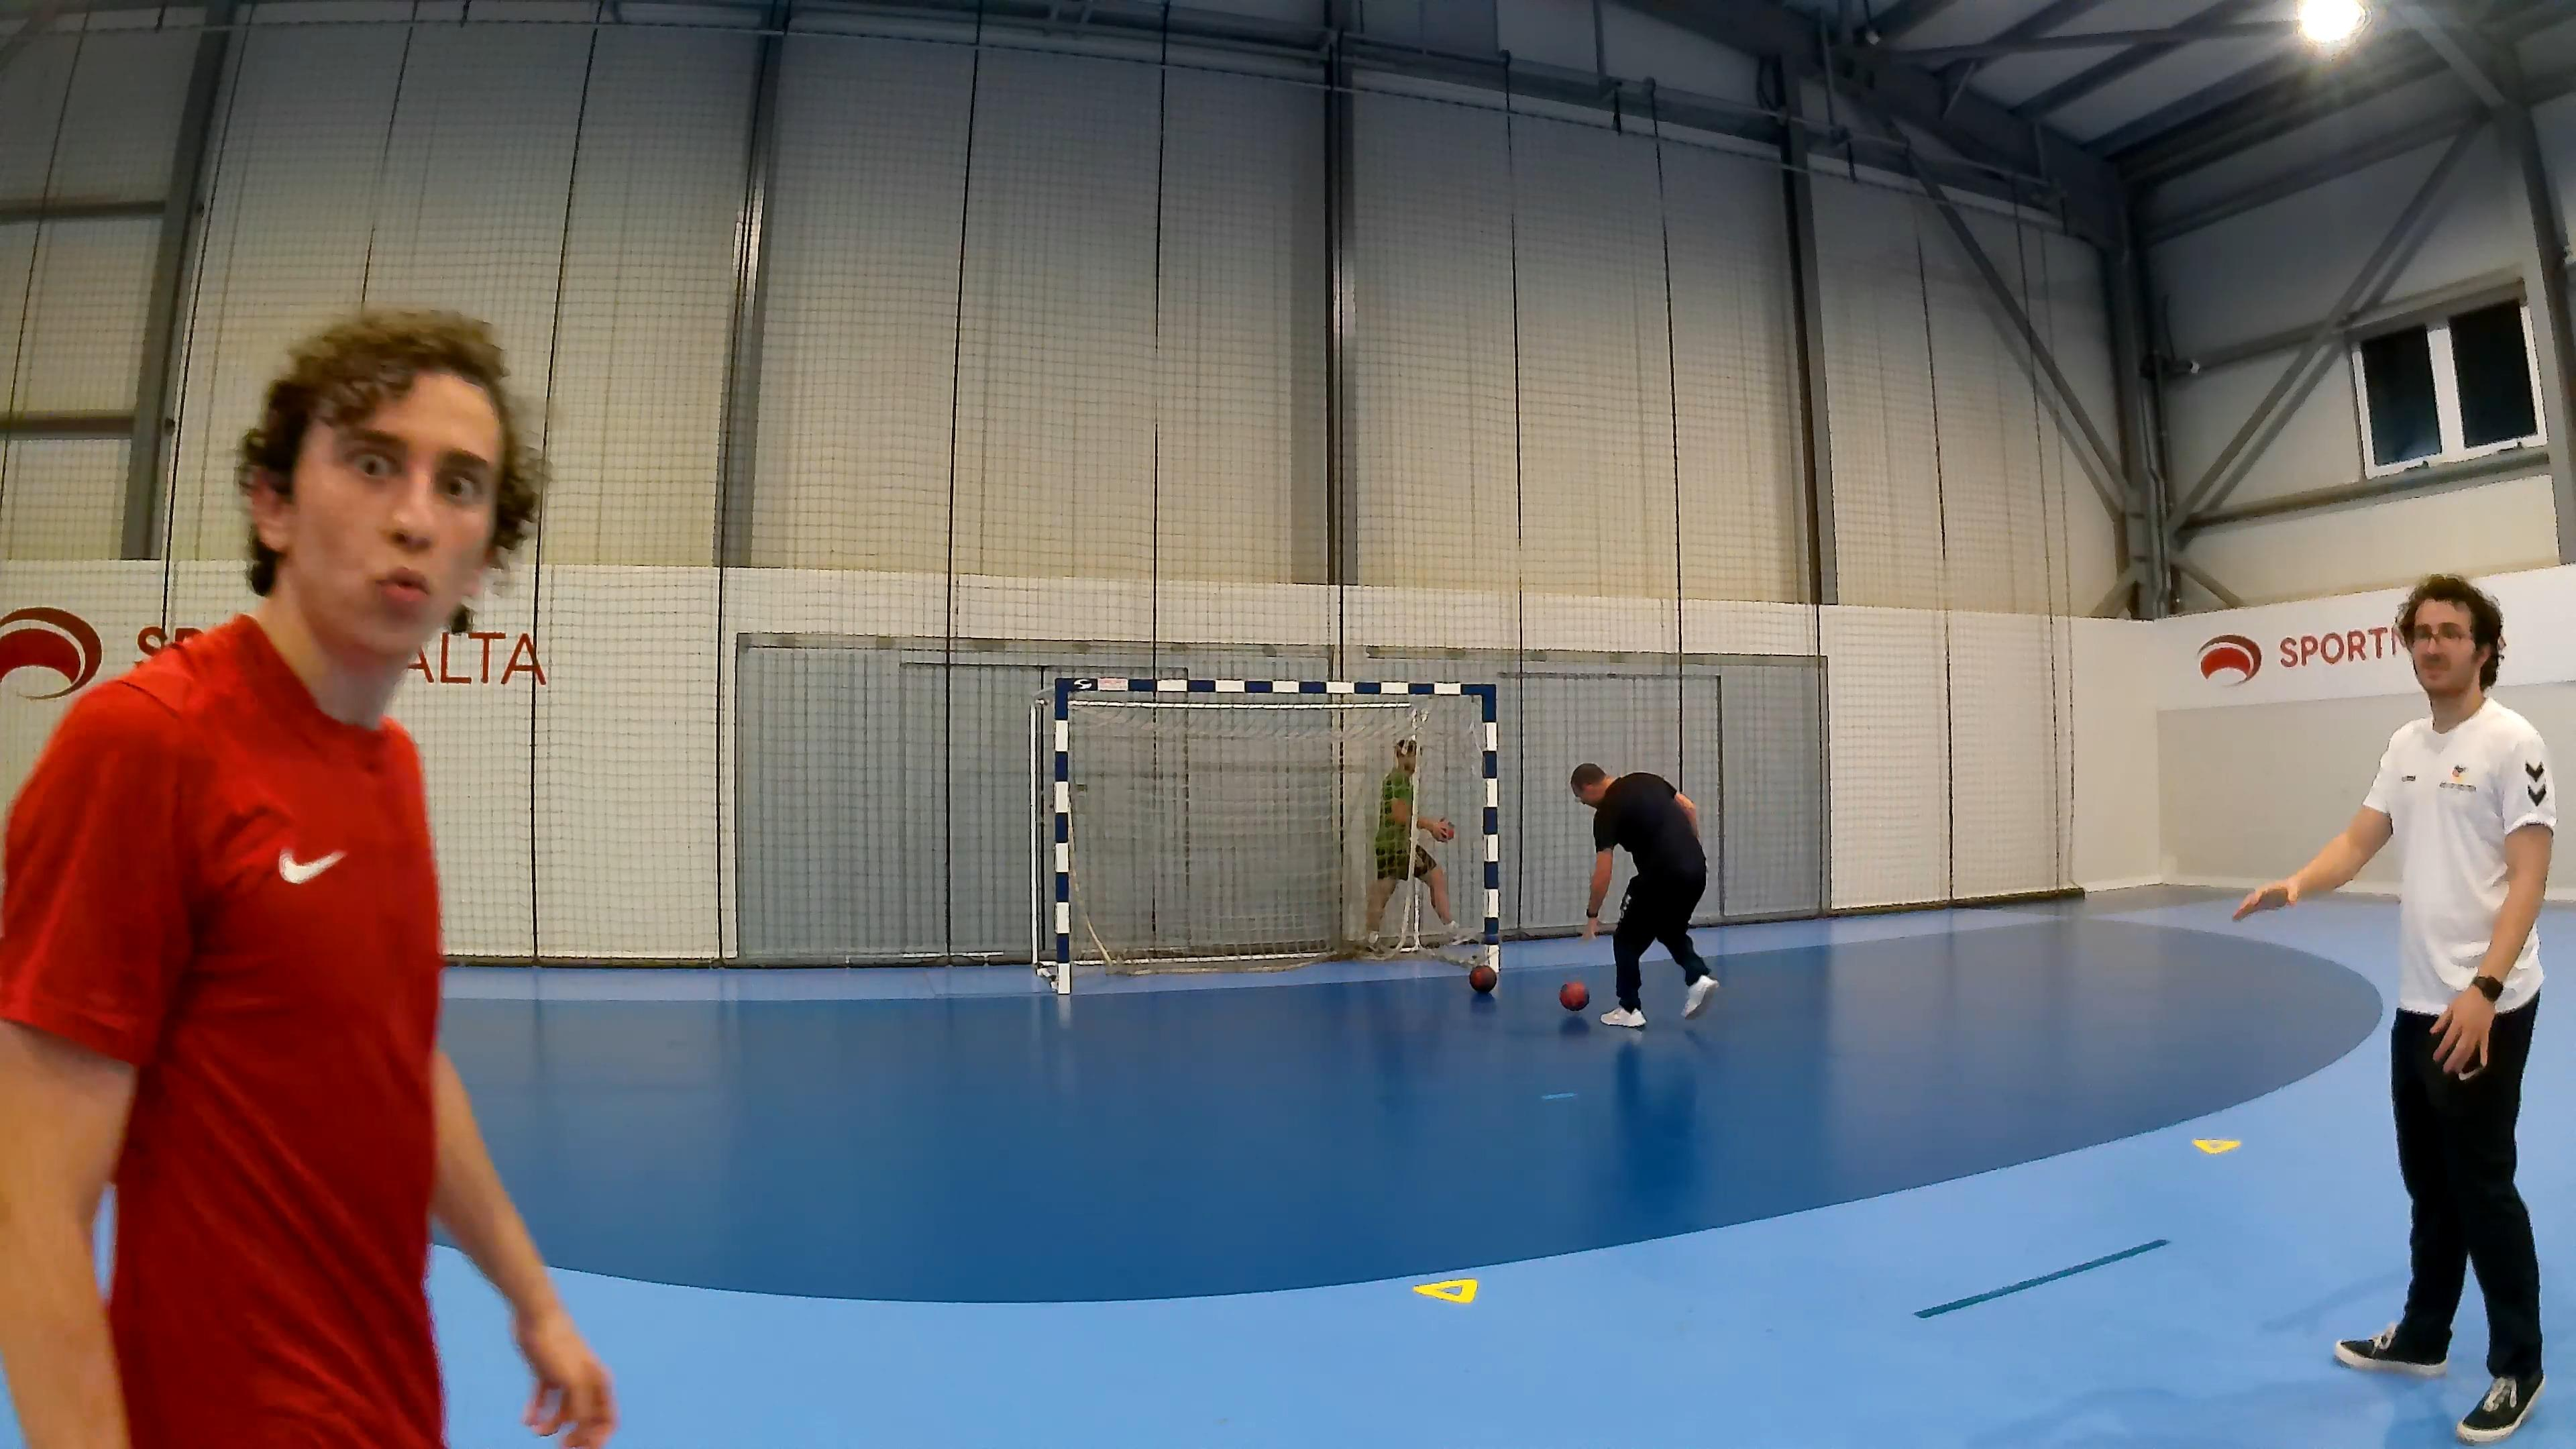handball: (1557, 980, 1589, 1010), (1468, 962, 1497, 993)
